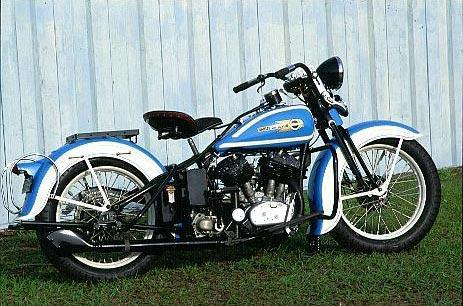motorcycle: (7, 46, 449, 279)
